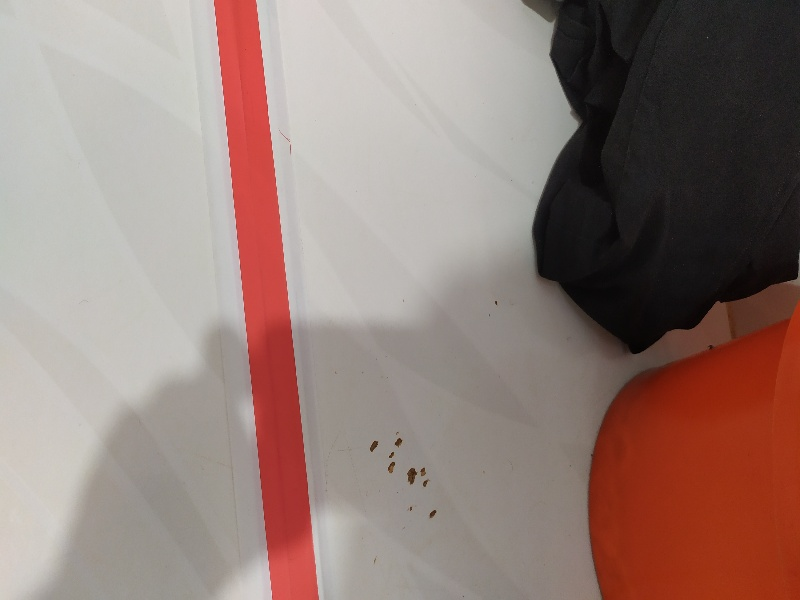reta: (177, 8, 338, 600)
